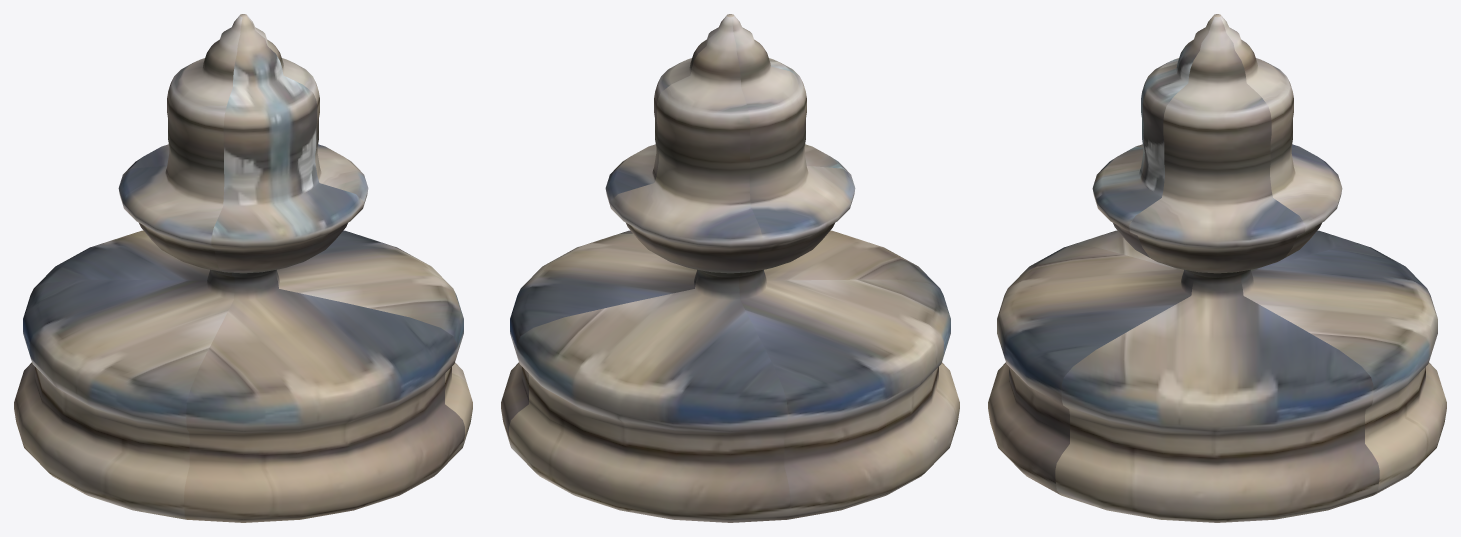
The model's file is town-fountain.glb.
3 renders of one model, left to right at view 1: azimuth 30°, elevation 25°; view 2: azimuth 150°, elevation 25°; view 3: azimuth 270°, elevation 25°, orthographic.
Visible parts, largest first — view 1: piece; view 2: piece; view 3: piece.
Part boxes in pixels (bbox=[...]): piece: bbox=[14, 14, 472, 522]; piece: bbox=[501, 14, 959, 522]; piece: bbox=[988, 14, 1446, 522].
Bounding box in the file's own units: 2.26 × 2.4 × 2.26.
1 material, 1 textured.
